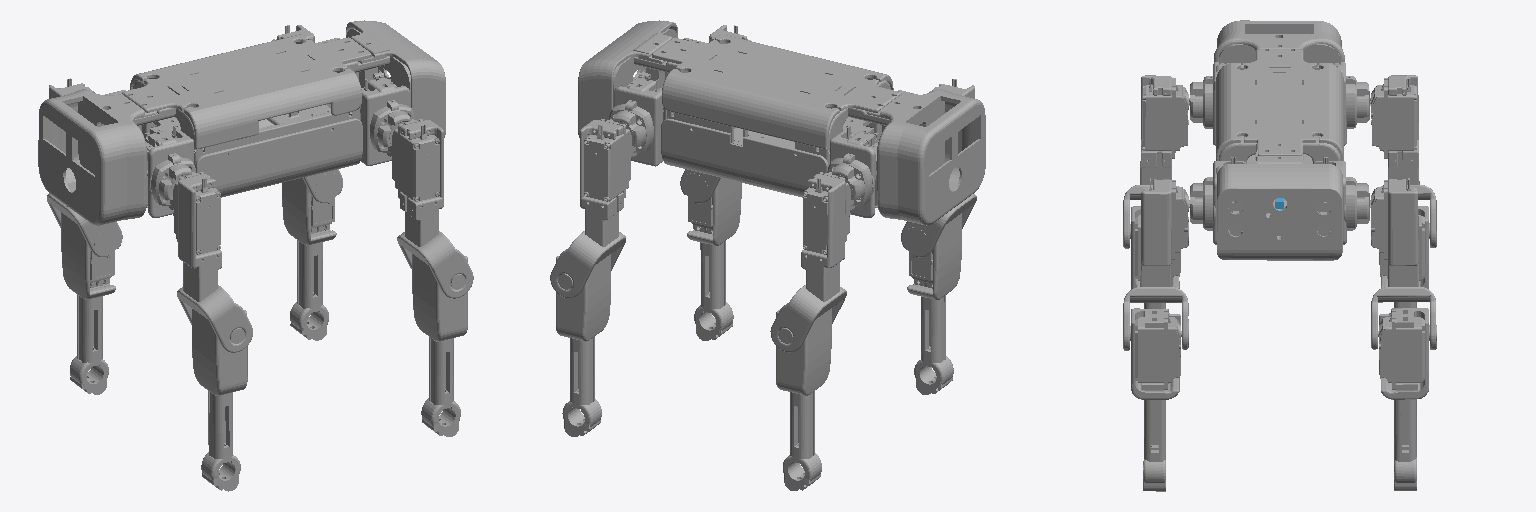
The robot description file, URDF, robot "bigspot":
<?xml version='1.0' encoding='utf-8'?>
<robot name="bigspot">
  <link name="base_link">
    <inertial>
      <origin xyz="0.0 0.0 0.0" rpy="0 0 0" />
      <mass value="1.2002032804157028" />
      <inertia ixx="0.003833" iyy="0.01767" izz="0.018171" ixy="-0.000152" iyz="-3.3e-05" ixz="-8e-05" />
    </inertial>
    <visual>
      <origin xyz="0.005924455452065034 0.00013954843544972099 -0.33234964114268223" rpy="0 0 0" />
      <geometry>
        <mesh filename="package://bigspot_sim/meshes/base_link.stl" scale="0.001 0.001 0.001" />
      </geometry>
      <material name="silver" />
    </visual>
    <collision>
      <origin xyz="0.005924455452065034 0.00013954843544972099 -0.33234964114268223" rpy="0 0 0" />
      <geometry>
        <mesh filename="package://bigspot_sim/meshes/base_link.stl" scale="0.001 0.001 0.001" />
      </geometry>
    </collision>
  </link>
  <joint name="ir_front_joint" type="fixed">
    <axis xyz="0 1 0" />
    <origin rpy="0 0 0" xyz="0.18592445545206504 0.00013954843544972099 0.01765035885731775" />
    <parent link="base_link" />
    <child link="base_ir_front" />
  </joint>
  <link name="base_ir_front">
    <collision>
      <origin xyz="0 0 0" rpy="0 0 0" />
      <geometry>
        <box size="0.01 0.01 0.01" />
      </geometry>
    </collision>
    <visual>
      <origin xyz="0 0 0" rpy="0 0 0" />
      <geometry>
        <box size="0.01 0.01 0.01" />
      </geometry>
    </visual>
    <inertial>
      <mass value="1e-5" />
      <origin xyz="0 0 0" rpy="0 0 0" />
      <inertia ixx="1e-6" ixy="0" ixz="0" iyy="1e-6" iyz="0" izz="1e-6" />
    </inertial>
  </link>
  <link name="FRS_1">
    <inertial>
      <origin xyz="-0.03262402906297844 -0.008891213440249235 -0.01859885653575638" rpy="0 0 0" />
      <mass value="0.2179660102657959" />
      <inertia ixx="0.00014" iyy="0.000135" izz="9.7e-05" ixy="2e-06" iyz="-0.0" ixz="-3e-06" />
    </inertial>
    <visual>
      <origin xyz="-0.152485 0.048774 -0.341762" rpy="0 0 0" />
      <geometry>
        <mesh filename="package://bigspot_sim/meshes/FRS_1.stl" scale="0.001 0.001 0.001" />
      </geometry>
      <material name="silver" />
    </visual>
    <collision>
      <origin xyz="-0.152485 0.048774 -0.341762" rpy="0 0 0" />
      <geometry>
        <mesh filename="package://bigspot_sim/meshes/FRS_1.stl" scale="0.001 0.001 0.001" />
      </geometry>
    </collision>
  </link>
  <link name="FRL_1">
    <inertial>
      <origin xyz="0.0038775817781630667 -0.033503810432042994 -0.051270367340440826" rpy="0 0 0" />
      <mass value="0.2533070021724165" />
      <inertia ixx="0.000608" iyy="0.000566" izz="0.000103" ixy="4e-06" iyz="-3.8e-05" ixz="4e-05" />
    </inertial>
    <visual>
      <origin xyz="-0.121434 0.09266 -0.322919" rpy="0 0 0" />
      <geometry>
        <mesh filename="package://bigspot_sim/meshes/FRL_1.stl" scale="0.001 0.001 0.001" />
      </geometry>
      <material name="silver" />
    </visual>
    <collision>
      <origin xyz="-0.121434 0.09266 -0.322919" rpy="0 0 0" />
      <geometry>
        <mesh filename="package://bigspot_sim/meshes/FRL_1.stl" scale="0.001 0.001 0.001" />
      </geometry>
    </collision>
  </link>
  <link name="FRF_1">
    <inertial>
      <origin xyz="-0.001869412585041974 -0.03622957158869643 -0.04650897056843453" rpy="0 0 0" />
      <mass value="0.25008271350190114" />
      <inertia ixx="0.000701" iyy="0.000678" izz="7e-05" ixy="0.0" iyz="2e-06" ixz="9e-06" />
    </inertial>
    <visual>
      <origin xyz="-0.145661 0.096431 -0.182302" rpy="0 0 0" />
      <geometry>
        <mesh filename="package://bigspot_sim/meshes/FRF_1.stl" scale="0.001 0.001 0.001" />
      </geometry>
      <material name="silver" />
    </visual>
    <collision>
      <origin xyz="-0.145661 0.096431 -0.182302" rpy="0 0 0" />
      <geometry>
        <mesh filename="package://bigspot_sim/meshes/FRF_1.stl" scale="0.001 0.001 0.001" />
      </geometry>
    </collision>
  </link>
  <link name="FLS_1">
    <inertial>
      <origin xyz="-0.032502651385048306 0.008982081400929244 -0.01876110043924245" rpy="0 0 0" />
      <mass value="0.2168042558568771" />
      <inertia ixx="0.000138" iyy="0.000133" izz="9.6e-05" ixy="-1e-06" iyz="0.0" ixz="-4e-06" />
    </inertial>
    <visual>
      <origin xyz="-0.152487 -0.049214 -0.341737" rpy="0 0 0" />
      <geometry>
        <mesh filename="package://bigspot_sim/meshes/FLS_1.stl" scale="0.001 0.001 0.001" />
      </geometry>
      <material name="silver" />
    </visual>
    <collision>
      <origin xyz="-0.152487 -0.049214 -0.341737" rpy="0 0 0" />
      <geometry>
        <mesh filename="package://bigspot_sim/meshes/FLS_1.stl" scale="0.001 0.001 0.001" />
      </geometry>
    </collision>
  </link>
  <link name="FLL_1">
    <inertial>
      <origin xyz="0.0038795073898601623 0.033676971098066916 -0.0511565901145839" rpy="0 0 0" />
      <mass value="0.2533070083934759" />
      <inertia ixx="0.000608" iyy="0.000566" izz="0.000103" ixy="-4e-06" iyz="4e-05" ixz="4e-05" />
    </inertial>
    <visual>
      <origin xyz="-0.12144 -0.092922 -0.323041" rpy="0 0 0" />
      <geometry>
        <mesh filename="package://bigspot_sim/meshes/FLL_1.stl" scale="0.001 0.001 0.001" />
      </geometry>
      <material name="silver" />
    </visual>
    <collision>
      <origin xyz="-0.12144 -0.092922 -0.323041" rpy="0 0 0" />
      <geometry>
        <mesh filename="package://bigspot_sim/meshes/FLL_1.stl" scale="0.001 0.001 0.001" />
      </geometry>
    </collision>
  </link>
  <link name="FLF_1">
    <inertial>
      <origin xyz="-0.001867050204165388 0.036386780395052415 -0.04638544366195871" rpy="0 0 0" />
      <mass value="0.25008282200400833" />
      <inertia ixx="0.000701" iyy="0.000678" izz="7e-05" ixy="-0.0" iyz="-0.0" ixz="9e-06" />
    </inertial>
    <visual>
      <origin xyz="-0.145667 -0.097168 -0.182437" rpy="0 0 0" />
      <geometry>
        <mesh filename="package://bigspot_sim/meshes/FLF_1.stl" scale="0.001 0.001 0.001" />
      </geometry>
      <material name="silver" />
    </visual>
    <collision>
      <origin xyz="-0.145667 -0.097168 -0.182437" rpy="0 0 0" />
      <geometry>
        <mesh filename="package://bigspot_sim/meshes/FLF_1.stl" scale="0.001 0.001 0.001" />
      </geometry>
    </collision>
  </link>
  <link name="RRS_1">
    <inertial>
      <origin xyz="0.0327134074105363 -0.008946282789402397 -0.01858381030389067" rpy="0 0 0" />
      <mass value="0.2178784733170752" />
      <inertia ixx="0.000139" iyy="0.000135" izz="9.7e-05" ixy="-2e-06" iyz="-0.0" ixz="3e-06" />
    </inertial>
    <visual>
      <origin xyz="0.164823 0.048791 -0.341723" rpy="0 0 0" />
      <geometry>
        <mesh filename="package://bigspot_sim/meshes/RRS_1.stl" scale="0.001 0.001 0.001" />
      </geometry>
      <material name="silver" />
    </visual>
    <collision>
      <origin xyz="0.164823 0.048791 -0.341723" rpy="0 0 0" />
      <geometry>
        <mesh filename="package://bigspot_sim/meshes/RRS_1.stl" scale="0.001 0.001 0.001" />
      </geometry>
    </collision>
  </link>
  <link name="RRL_1">
    <inertial>
      <origin xyz="0.0005644107989059011 -0.03365254077769543 -0.05152345693558058" rpy="0 0 0" />
      <mass value="0.25444871582041645" />
      <inertia ixx="0.000615" iyy="0.000574" izz="0.000105" ixy="0.0" iyz="-4e-05" ixz="4.8e-05" />
    </inertial>
    <visual>
      <origin xyz="0.133775 0.092485 -0.323" rpy="0 0 0" />
      <geometry>
        <mesh filename="package://bigspot_sim/meshes/RRL_1.stl" scale="0.001 0.001 0.001" />
      </geometry>
      <material name="silver" />
    </visual>
    <collision>
      <origin xyz="0.133775 0.092485 -0.323" rpy="0 0 0" />
      <geometry>
        <mesh filename="package://bigspot_sim/meshes/RRL_1.stl" scale="0.001 0.001 0.001" />
      </geometry>
    </collision>
  </link>
  <link name="RRF_1">
    <inertial>
      <origin xyz="-0.0015923497064600778 -0.03624611498348912 -0.0465087745386944" rpy="0 0 0" />
      <mass value="0.2500550328866579" />
      <inertia ixx="0.0007" iyy="0.000678" izz="7e-05" ixy="1e-06" iyz="2e-06" ixz="1.1e-05" />
    </inertial>
    <visual>
      <origin xyz="0.111933 0.096468 -0.181888" rpy="0 0 0" />
      <geometry>
        <mesh filename="package://bigspot_sim/meshes/RRF_1.stl" scale="0.001 0.001 0.001" />
      </geometry>
      <material name="silver" />
    </visual>
    <collision>
      <origin xyz="0.111933 0.096468 -0.181888" rpy="0 0 0" />
      <geometry>
        <mesh filename="package://bigspot_sim/meshes/RRF_1.stl" scale="0.001 0.001 0.001" />
      </geometry>
    </collision>
  </link>
  <link name="RLS_1">
    <inertial>
      <origin xyz="0.03270821123980758 0.008996243250212595 -0.018554272527578353" rpy="0 0 0" />
      <mass value="0.21782970948658575" />
      <inertia ixx="0.000139" iyy="0.000135" izz="9.7e-05" ixy="2e-06" iyz="1e-06" ixz="3e-06" />
    </inertial>
    <visual>
      <origin xyz="0.164822 -0.049198 -0.341698" rpy="0 0 0" />
      <geometry>
        <mesh filename="package://bigspot_sim/meshes/RLS_1.stl" scale="0.001 0.001 0.001" />
      </geometry>
      <material name="silver" />
    </visual>
    <collision>
      <origin xyz="0.164822 -0.049198 -0.341698" rpy="0 0 0" />
      <geometry>
        <mesh filename="package://bigspot_sim/meshes/RLS_1.stl" scale="0.001 0.001 0.001" />
      </geometry>
    </collision>
  </link>
  <link name="RLL_1">
    <inertial>
      <origin xyz="0.0005648602121980373 0.03377765945377083 -0.051441442055425946" rpy="0 0 0" />
      <mass value="0.254448653712132" />
      <inertia ixx="0.000615" iyy="0.000574" izz="0.000105" ixy="-0.0" iyz="4.1e-05" ixz="4.8e-05" />
    </inertial>
    <visual>
      <origin xyz="0.133774 -0.092964 -0.323081" rpy="0 0 0" />
      <geometry>
        <mesh filename="package://bigspot_sim/meshes/RLL_1.stl" scale="0.001 0.001 0.001" />
      </geometry>
      <material name="silver" />
    </visual>
    <collision>
      <origin xyz="0.133774 -0.092964 -0.323081" rpy="0 0 0" />
      <geometry>
        <mesh filename="package://bigspot_sim/meshes/RLL_1.stl" scale="0.001 0.001 0.001" />
      </geometry>
    </collision>
  </link>
  <link name="RLF_1">
    <inertial>
      <origin xyz="-0.0015918551718841906 0.03635900100429153 -0.04642040795218652" rpy="0 0 0" />
      <mass value="0.2500551183488915" />
      <inertia ixx="0.0007" iyy="0.000678" izz="7e-05" ixy="-1e-06" iyz="-1e-06" ixz="1.1e-05" />
    </inertial>
    <visual>
      <origin xyz="0.111932 -0.09729 -0.181979" rpy="0 0 0" />
      <geometry>
        <mesh filename="package://bigspot_sim/meshes/RLF_1.stl" scale="0.001 0.001 0.001" />
      </geometry>
      <material name="silver" />
    </visual>
    <collision>
      <origin xyz="0.111932 -0.09729 -0.181979" rpy="0 0 0" />
      <geometry>
        <mesh filename="package://bigspot_sim/meshes/RLF_1.stl" scale="0.001 0.001 0.001" />
      </geometry>
    </collision>
  </link>
  <joint name="FRS_Joint" type="revolute">
    <origin xyz="0.15840945545206506 -0.04863445156455028 0.009412358857317782" rpy="0 0 0" />
    <parent link="base_link" />
    <child link="FRS_1" />
    <axis xyz="-0.999998 3e-05 0.001745" />
    <limit upper="0.523599" lower="-0.349066" effort="6.3743225" velocity="6.981317007977318" />
  </joint>
  <joint name="FRL_Joint" type="revolute">
    <origin xyz="-0.031051 -0.043886 -0.018843" rpy="0 0 0" />
    <parent link="FRS_1" />
    <child link="FRL_1" />
    <axis xyz="2.6e-05 0.999998 -0.002125" />
    <limit upper="1.570796" lower="-1.570796" effort="6.3743225" velocity="6.981317007977318" />
  </joint>
  <joint name="FRF_Joint" type="revolute">
    <origin xyz="0.024227 -0.003771 -0.140617" rpy="0 0 0" />
    <parent link="FRL_1" />
    <child link="FRF_1" />
    <axis xyz="2.6e-05 0.999998 -0.002125" />
    <limit upper="0.0" lower="-2.617994" effort="6.3743225" velocity="6.981317007977318" />
  </joint>
  <joint name="FLS_Joint" type="revolute">
    <origin xyz="0.15841145545206506 0.04935354843544972 0.009387358857317785" rpy="0 0 0" />
    <parent link="base_link" />
    <child link="FLS_1" />
    <axis xyz="-0.999998 3e-05 0.001745" />
    <limit upper="0.349066" lower="-0.523599" effort="6.3743225" velocity="6.981317007977318" />
  </joint>
  <joint name="FLL_Joint" type="revolute">
    <origin xyz="-0.031047 0.043708 -0.018696" rpy="0 0 0" />
    <parent link="FLS_1" />
    <child link="FLL_1" />
    <axis xyz="3.9e-05 0.999985 0.005513" />
    <limit upper="1.570796" lower="-1.570796" effort="6.3743225" velocity="6.981317007977318" />
  </joint>
  <joint name="FLF_Joint" type="revolute">
    <origin xyz="0.024227 0.004246 -0.140604" rpy="0 0 0" />
    <parent link="FLL_1" />
    <child link="FLF_1" />
    <axis xyz="-3.9e-05 -0.999985 -0.005513" />
    <limit upper="2.617994" lower="0.0" effort="6.3743225" velocity="6.981317007977318" />
  </joint>
  <joint name="RRS_Joint" type="revolute">
    <origin xyz="-0.15889854454793495 -0.04865145156455028 0.00937335885731777" rpy="0 0 0" />
    <parent link="base_link" />
    <child link="RRS_1" />
    <axis xyz="-0.999998 7e-06 -0.001745" />
    <limit upper="0.523599" lower="-0.349066" effort="6.3743225" velocity="6.981317007977318" />
  </joint>
  <joint name="RRL_Joint" type="revolute">
    <origin xyz="0.031048 -0.043694 -0.018723" rpy="0 0 0" />
    <parent link="RRS_1" />
    <child link="RRL_1" />
    <axis xyz="-1.5e-05 -0.999988 0.00488" />
    <limit upper="1.570796" lower="-1.570796" effort="6.3743225" velocity="6.981317007977318" />
  </joint>
  <joint name="RRF_Joint" type="revolute">
    <origin xyz="0.021842 -0.003983 -0.141112" rpy="0 0 0" />
    <parent link="RRL_1" />
    <child link="RRF_1" />
    <axis xyz="-0.004077 0.999989 -0.002405" />
    <limit upper="0.0" lower="-2.792527" effort="6.3743225" velocity="6.981317007977318" />
  </joint>
  <joint name="RLS_Joint" type="revolute">
    <origin xyz="-0.15889754454793495 0.04933754843544972 0.009348358857317773" rpy="0 0 0" />
    <parent link="base_link" />
    <child link="RLS_1" />
    <axis xyz="-0.999998 7e-06 -0.001745" />
    <limit upper="0.349066" lower="-0.523599" effort="6.3743225" velocity="6.981317007977318" />
  </joint>
  <joint name="RLL_Joint" type="revolute">
    <origin xyz="0.031048 0.043766 -0.018617" rpy="0 0 0" />
    <parent link="RLS_1" />
    <child link="RLL_1" />
    <axis xyz="6e-06 -0.999973 -0.007312" />
    <limit upper="1.570796" lower="-1.570796" effort="6.3743225" velocity="6.981317007977318" />
  </joint>
  <joint name="RLF_Joint" type="revolute">
    <origin xyz="0.021842 0.004326 -0.141102" rpy="0 0 0" />
    <parent link="RLL_1" />
    <child link="RLF_1" />
    <axis xyz="-0.004087 -0.99998 -0.004837" />
    <limit upper="2.792527" lower="0.0" effort="6.3743225" velocity="6.981317007977318" />
  </joint>
  <material name="silver">
    <color rgba="0.700 0.700 0.700 1.000" />
  </material>
  <material name="blue">
    <color rgba="0.0 0.0 0.8 1.0" />
  </material>
  <material name="green">
    <color rgba="0.0 0.8 0.0 1.0" />
  </material>
  <material name="gray">
    <color rgba="0.7 0.7 0.7 1.0" />
  </material>
  <material name="darkgray">
    <color rgba="0.3 0.3 0.3 1.0" />
  </material>
  <material name="red">
    <color rgba="0.8 0.0 0.0 1.0" />
  </material>
  <material name="white">
    <color rgba="1.0 1.0 1.0 1.0" />
  </material>
  <material name="yellow">
    <color rgba="0.8 0.8 0.0 1.0" />
  </material>
  <link name="fr_foot" />
  <joint name="fr_foot_joint" type="fixed">
    <parent link="FRF_1" />
    <child link="fr_foot" />
    <origin xyz="-0.0002153216183888907 -0.035968130430152956 -0.18210939556252956" rpy="0 0 0" />
  </joint>
  <link name="fl_foot" />
  <joint name="fl_foot_joint" type="fixed">
    <parent link="FLF_1" />
    <child link="fl_foot" />
    <origin xyz="4.790567229515936e-05 0.03582321507748151 -0.18202628486704825" rpy="0 0 0" />
  </joint>
  <link name="rr_foot" />
  <joint name="rr_foot_joint" type="fixed">
    <parent link="RRF_1" />
    <child link="rr_foot" />
    <origin xyz="0.00043005351685448755 -0.03601726335791719 -0.18209410569417475" rpy="0 0 0" />
  </joint>
  <link name="rl_foot" />
  <joint name="rl_foot_joint" type="fixed">
    <parent link="RLF_1" />
    <child link="rl_foot" />
    <origin xyz="0.0005412854042478688 0.035962689460839505 -0.1820348459162712" rpy="0 0 0" />
  </joint>
  <link name="camera_link" />
  <joint name="camera_joint" type="fixed">
    <parent link="base_link" />
    <child link="camera_link" />
    <origin xyz="0.18 0 0.04" rpy="0 0 0" />
  </joint>
  <link name="camera_optical_frame" />
  <joint name="camera_optical_joint" type="fixed">
    <parent link="camera_link" />
    <child link="camera_optical_frame" />
    <origin xyz="0 0 0" rpy="-1.5707963267948966 0 -1.5707963267948966" />
  </joint>
</robot>

--- Render facts (derived) ---
The picture shows the robot from 3 angles, left to right: view 1: azimuth 30°, elevation 25°; view 2: azimuth 150°, elevation 25°; view 3: azimuth 270°, elevation 25°; orthographic projection.
Model bigspot with 20 links and 19 joints (12 revolute, 7 fixed), rooted at base_link, posed all joints at 0.
Visible links, largest first — view 1: base_link, FRL_1, RRL_1, FRF_1, RRF_1, RLF_1, FLF_1, FRS_1, RRS_1, RLL_1, FLL_1; view 2: base_link, FLL_1, RLL_1, RLF_1, FLF_1, RRF_1, FRF_1, FLS_1, RLS_1, RRL_1, FRL_1; view 3: base_link, FLF_1, FRF_1, FRL_1, FLL_1, RRL_1, RLL_1, FRS_1, FLS_1, RRS_1, RLS_1, RLF_1 (+1 smaller).
Link boxes in pixels (x1,y1,x2,y2): base_link: [38, 20, 445, 225]; FRL_1: [392, 119, 473, 298]; RRL_1: [173, 172, 252, 352]; FRF_1: [412, 254, 467, 436]; RRF_1: [192, 309, 247, 491]; RLF_1: [61, 212, 115, 394]; FLF_1: [282, 178, 336, 340]; FRS_1: [360, 75, 414, 165]; RRS_1: [144, 126, 195, 217]; RLL_1: [47, 78, 122, 256]; FLL_1: [272, 25, 342, 202]; base_link: [578, 20, 985, 225]; FLL_1: [550, 119, 631, 297]; RLL_1: [770, 172, 850, 352]; RLF_1: [776, 308, 831, 490]; FLF_1: [556, 248, 610, 436]; RRF_1: [907, 213, 961, 394]; FRF_1: [687, 178, 741, 340]; FLS_1: [609, 76, 663, 166]; RLS_1: [827, 126, 878, 217]; RRL_1: [901, 79, 976, 257]; FRL_1: [680, 25, 750, 203]; base_link: [1214, 20, 1344, 260]; FLF_1: [1378, 308, 1436, 490]; FRF_1: [1130, 308, 1181, 491]; FRL_1: [1123, 178, 1189, 350]; FLL_1: [1370, 178, 1436, 349]; RRL_1: [1123, 75, 1189, 248]; RLL_1: [1370, 75, 1436, 247]; FRS_1: [1190, 157, 1245, 244]; FLS_1: [1313, 157, 1369, 244]; RRS_1: [1190, 62, 1243, 145]; RLS_1: [1316, 62, 1369, 145]; RLF_1: [1379, 206, 1429, 307].
Size in the robot's own frame: 0.4017 by 0.3327 by 0.3841 metres.
Meshes: 13 distinct files referenced, 13 mesh visuals loaded (13 binary STL).
